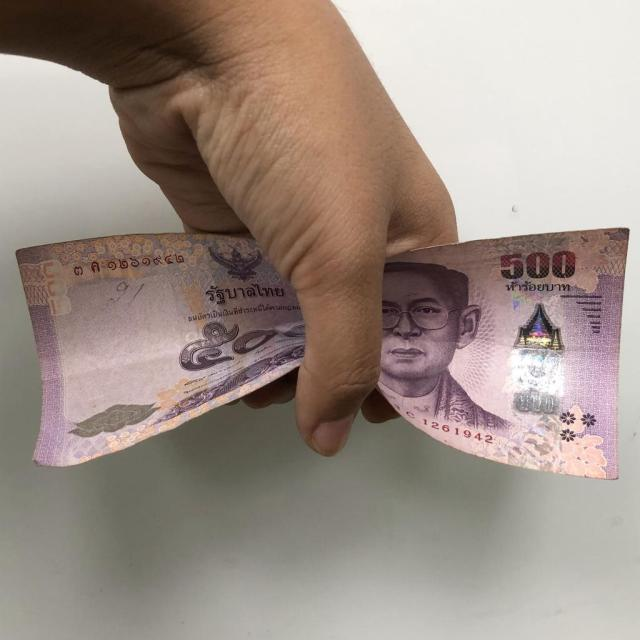THAI500: (17, 234, 305, 466), (377, 228, 628, 478)
